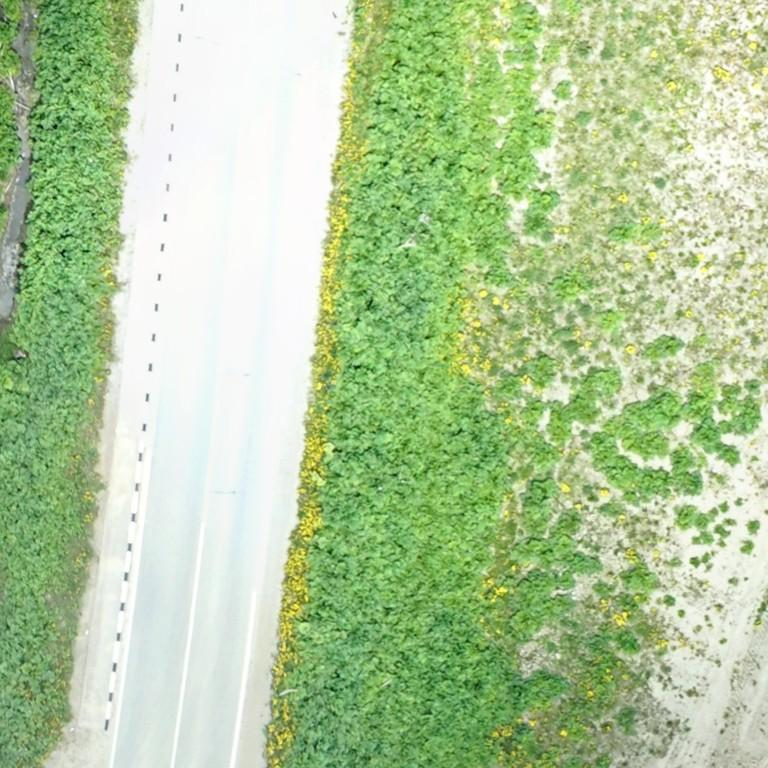hogweed: (280, 0, 563, 767), (0, 0, 137, 767), (592, 387, 760, 501), (514, 479, 596, 570), (522, 369, 622, 438), (509, 570, 570, 641), (501, 3, 540, 64), (497, 355, 553, 392), (550, 268, 588, 299), (646, 335, 686, 358), (526, 437, 558, 463), (610, 224, 635, 241)
